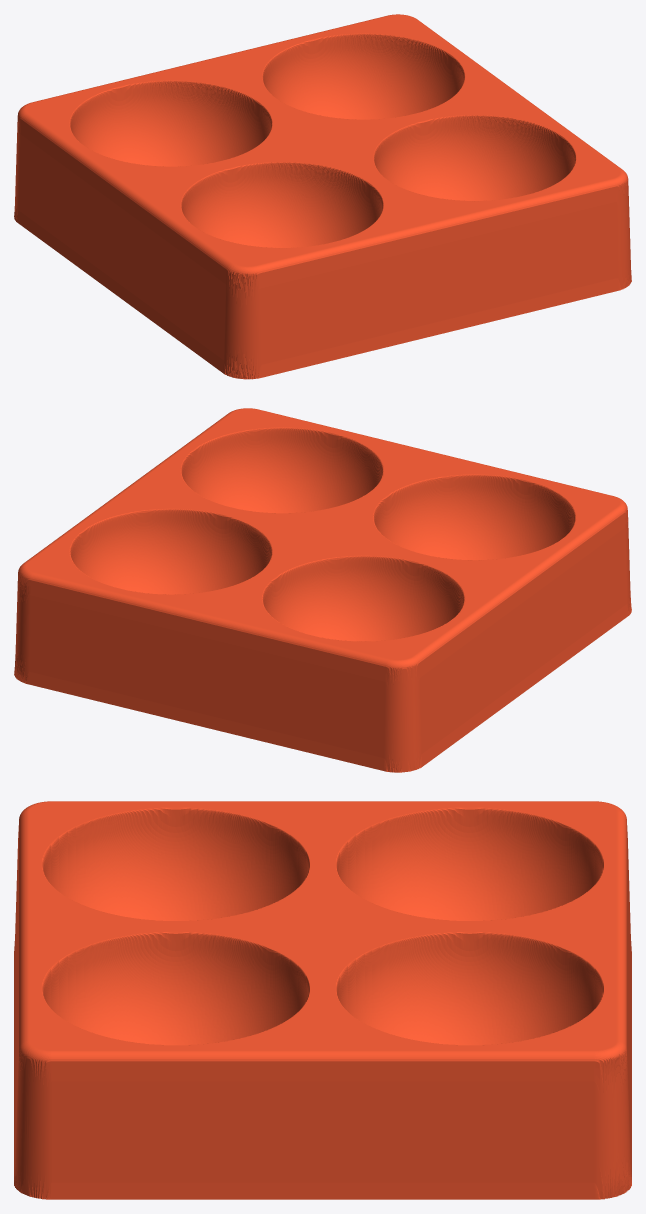
Rendered from mold.glb.
The picture shows the model from 3 angles, top to bottom: view 1: azimuth 30°, elevation 25°; view 2: azimuth 150°, elevation 25°; view 3: azimuth 270°, elevation 25°; orthographic projection. The views are drawn at different scales.
Parts seen in each view (by area): view 1: geometry_0; view 2: geometry_0; view 3: geometry_0.
Part boxes in pixels (x1,y1,x2,y2): geometry_0: [14, 14, 631, 379]; geometry_0: [14, 408, 631, 772]; geometry_0: [14, 801, 631, 1199].
Size of the model in its own units: 0.1482 by 0.0377 by 0.1482.
